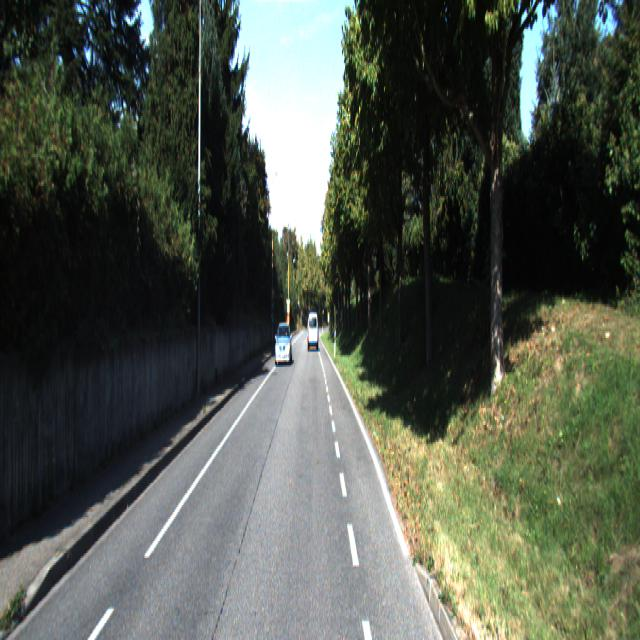Car: (274, 320, 292, 366), (307, 312, 319, 352)
